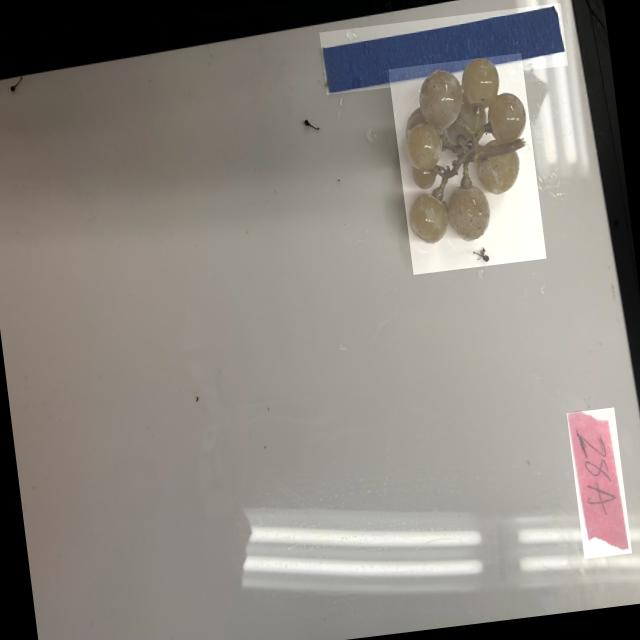grape_cluster: (387, 53, 545, 274)
index: (565, 407, 631, 559)
measure_label: (318, 2, 567, 94)
